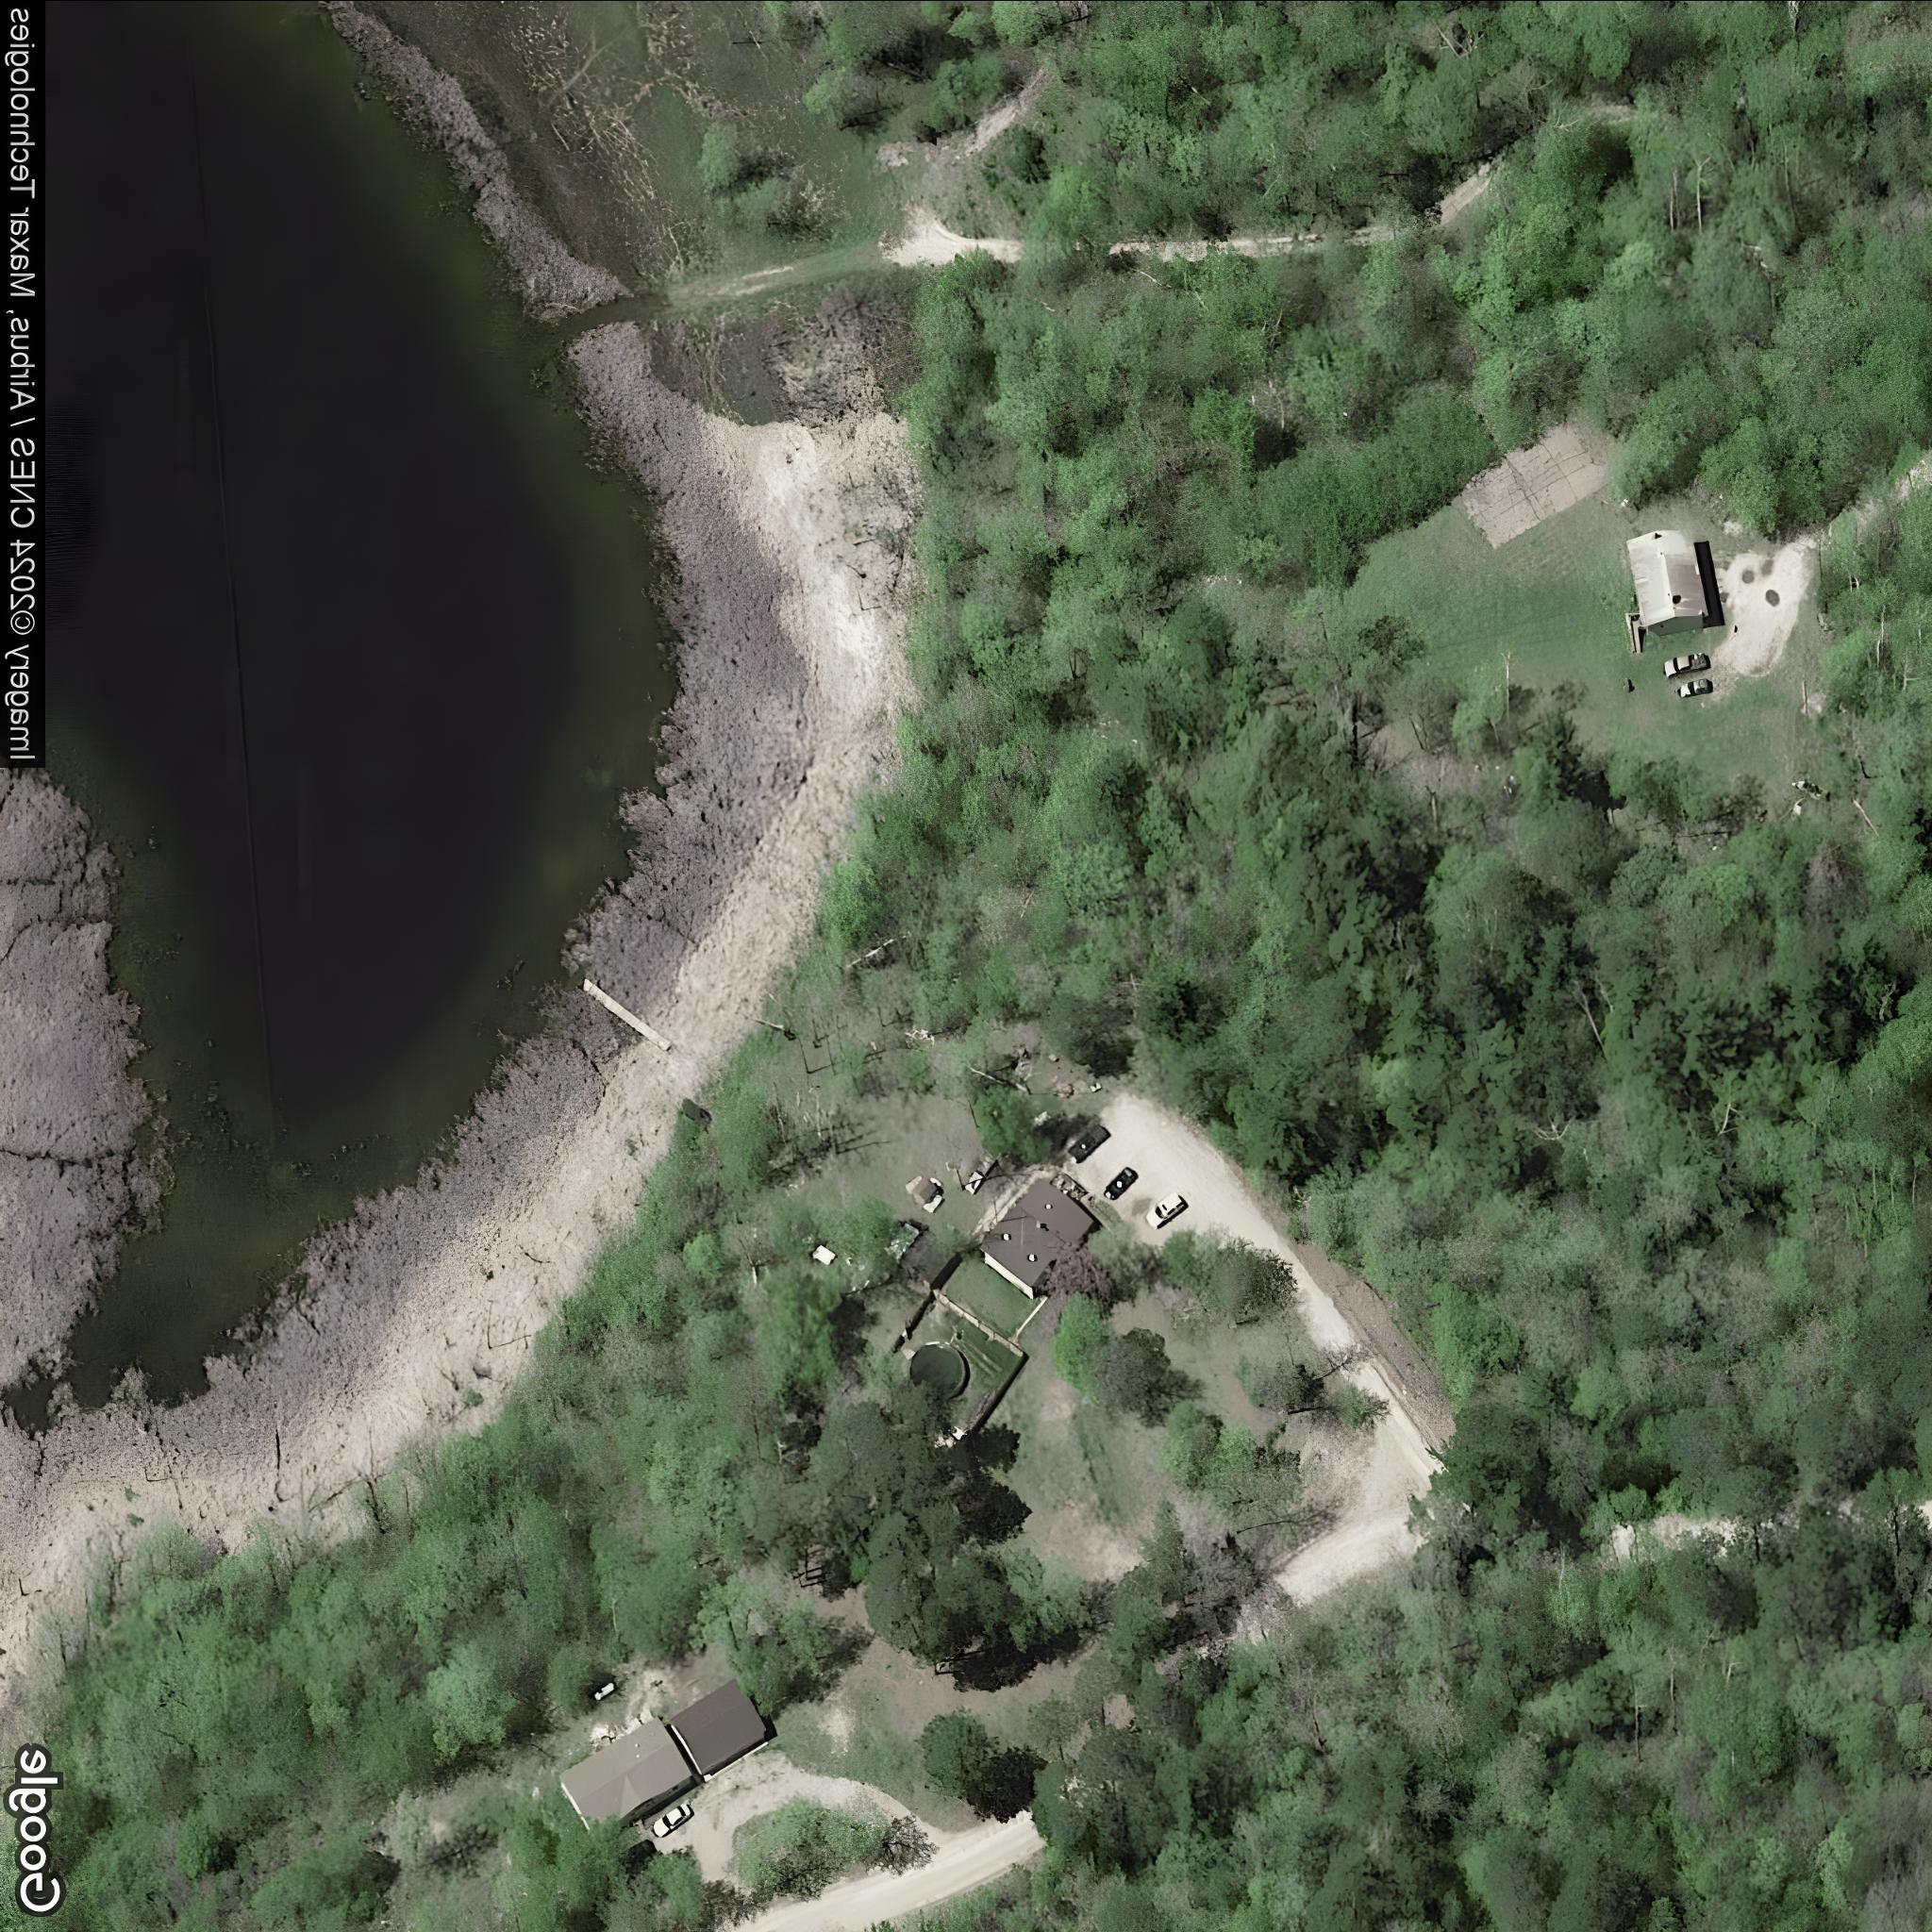Garage: (667, 1679, 768, 1782)
House: (556, 1716, 695, 1847), (978, 1173, 1099, 1304), (1624, 525, 1711, 639)
Propane: (589, 1679, 623, 1704)
